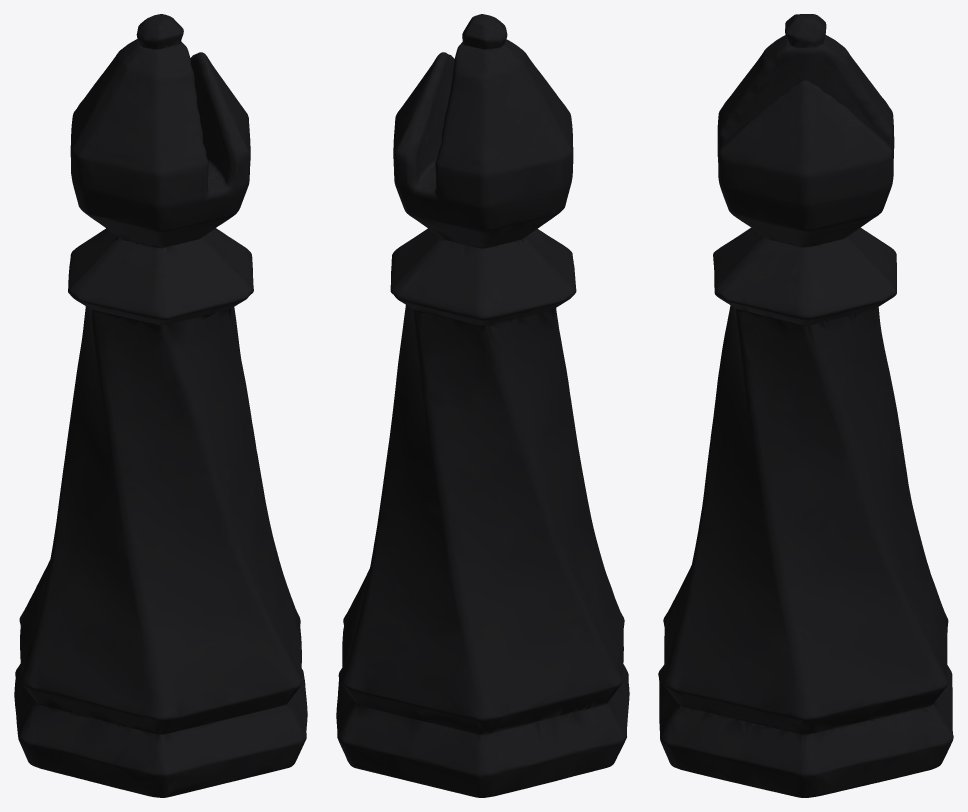
File: bishop-black-hd.glb
3 renders of one model, left to right at view 1: azimuth 30°, elevation 25°; view 2: azimuth 150°, elevation 25°; view 3: azimuth 270°, elevation 25°, orthographic.
Size of the model in its own units: 0.5355 by 1.3 by 0.4839.
Materials: 1 (1 with a texture image).
